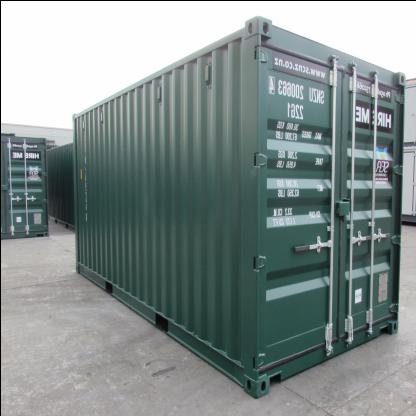Damage: (142, 181, 152, 221), (247, 158, 263, 178)
